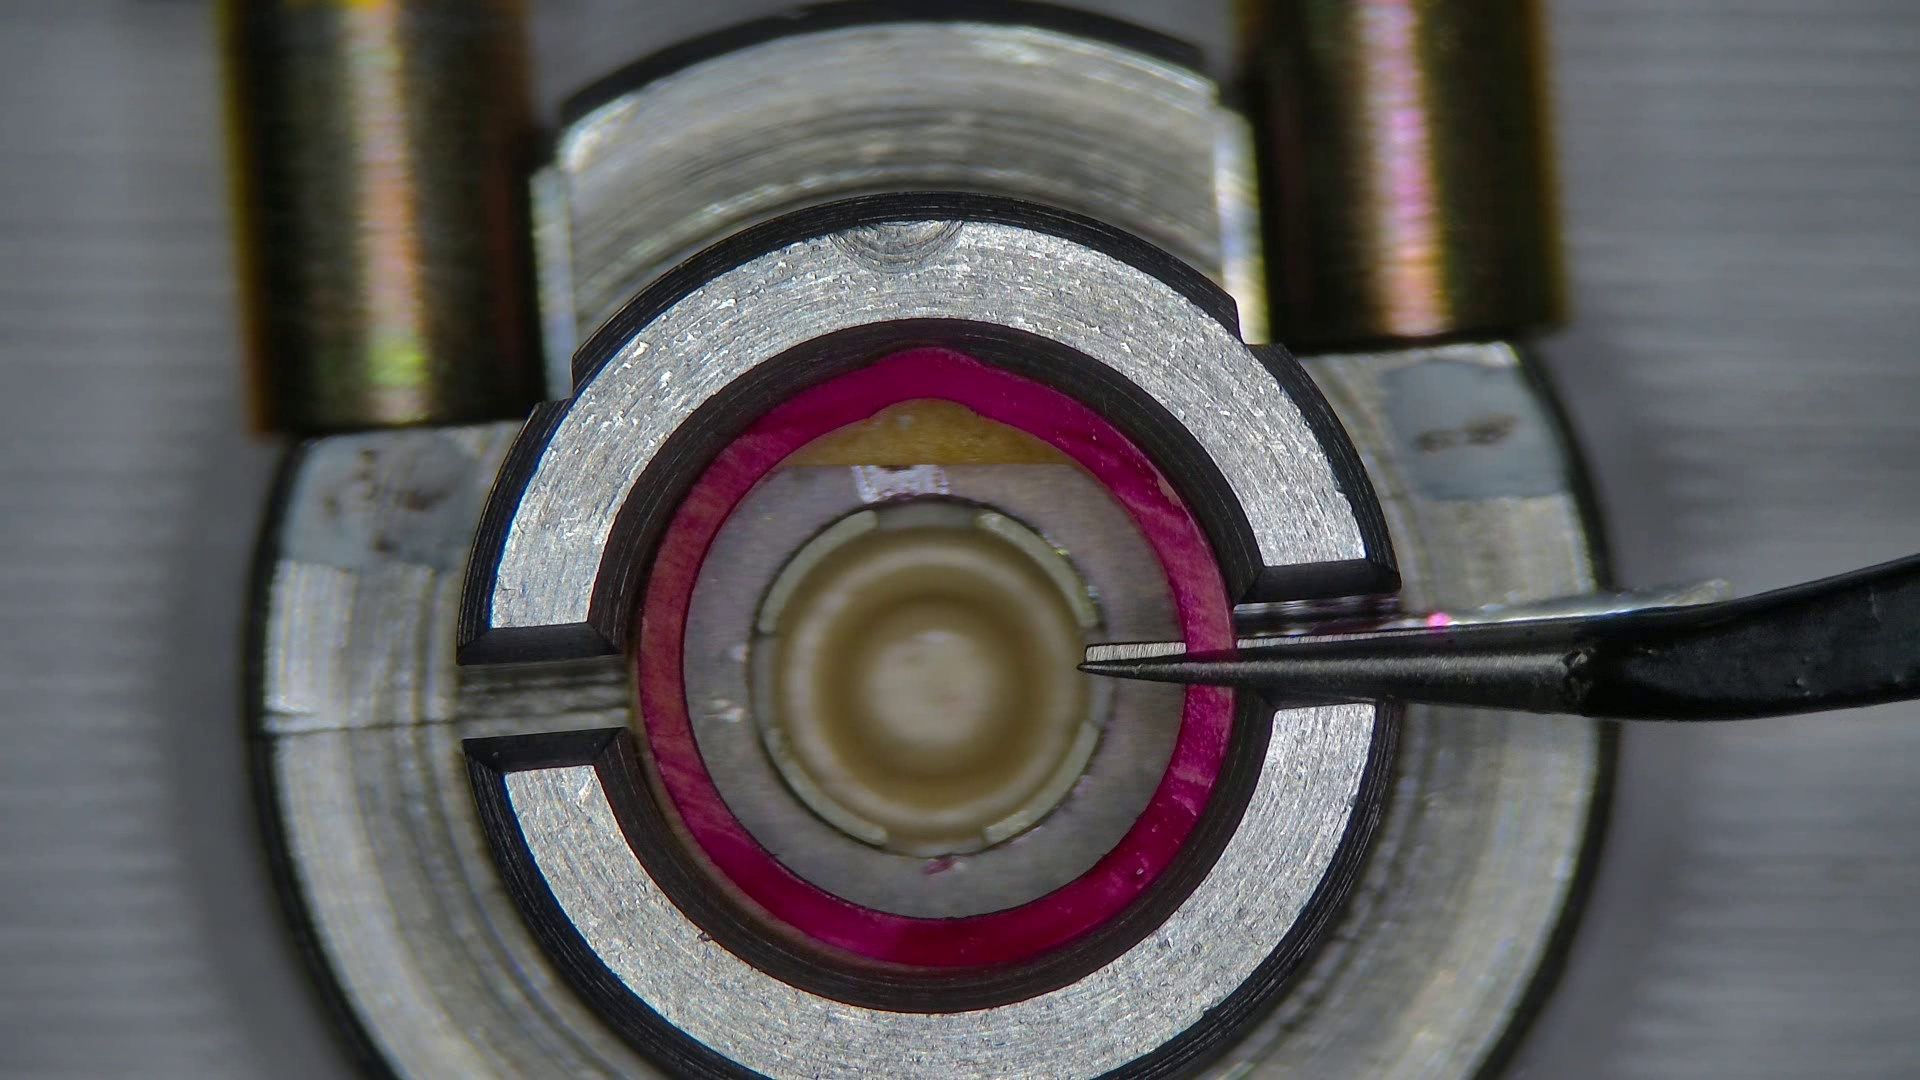GreyOring: (637, 345, 1234, 971)
YellowOring: (684, 463, 1187, 918)
redOring: (779, 401, 1079, 471)
